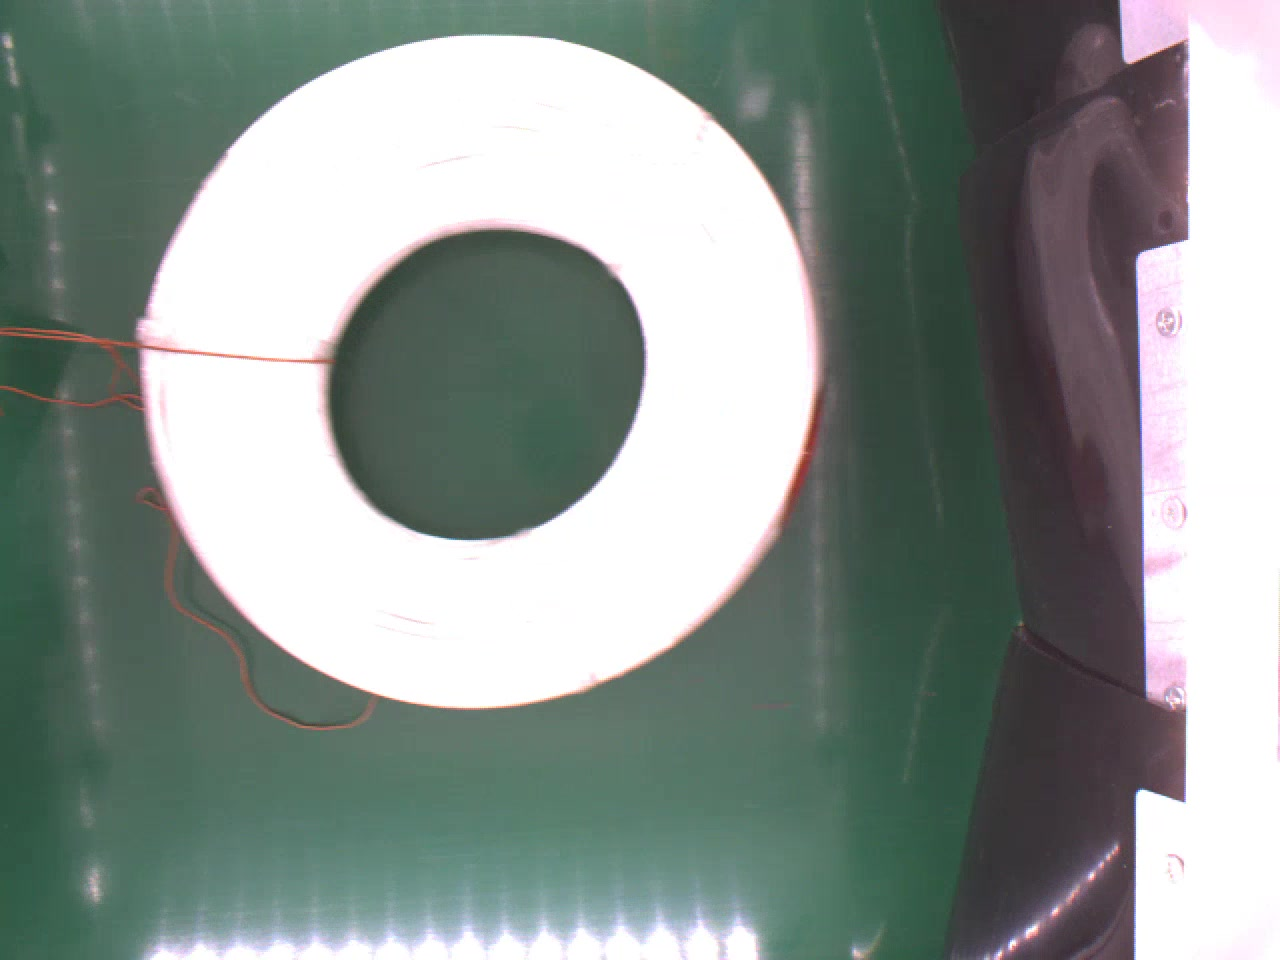white: (132, 35, 821, 711)
